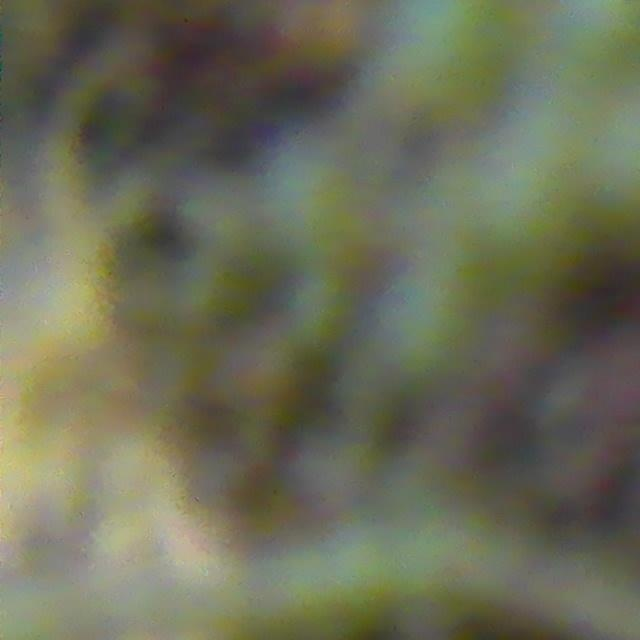SeaGrape: (377, 0, 526, 120)
